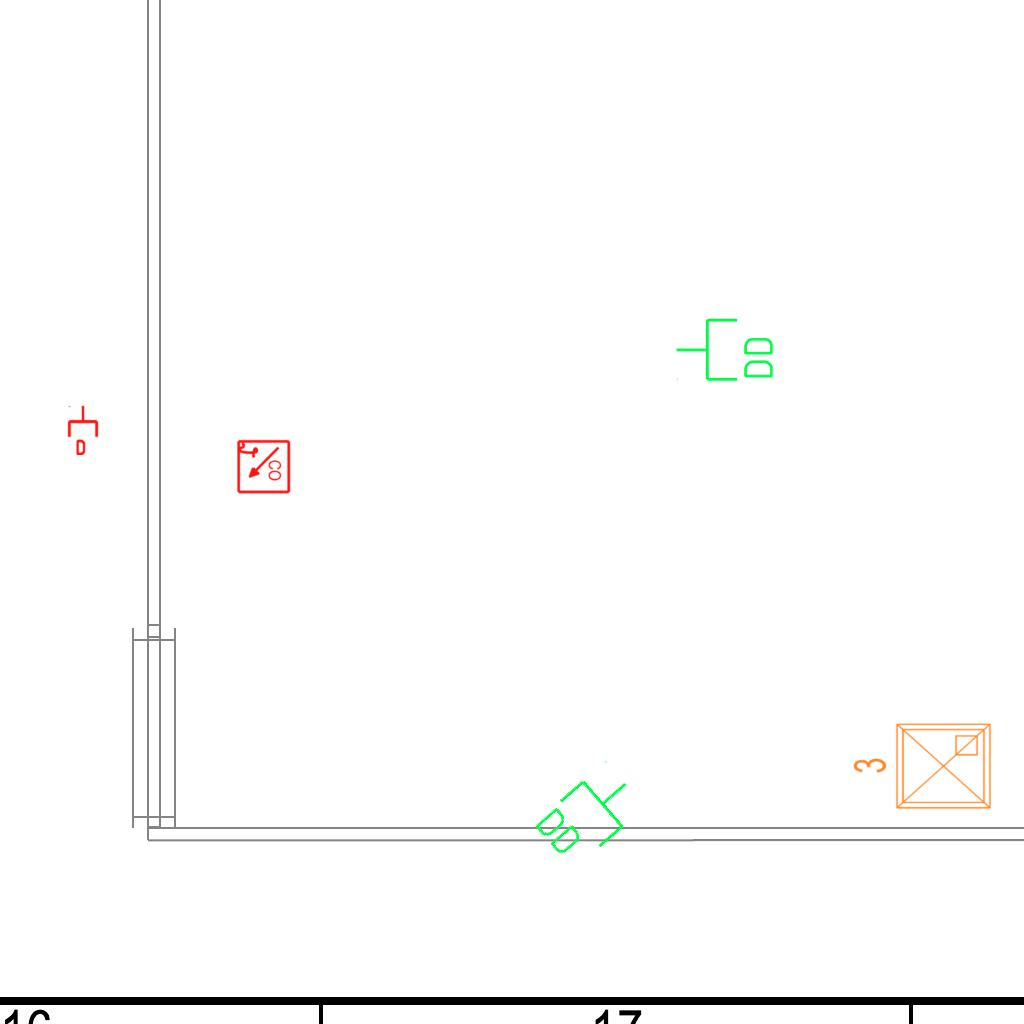Datenanschluss_einfach: (66, 405, 100, 455)
Datenanschluss_zweifach: (526, 755, 651, 876), (674, 316, 777, 385)
Einbaudownlights_LED_Konferenzraeume: (848, 716, 998, 820)
ROA_Rauchmelder_optisch_mit_Signalgeber_(Sockelsirene): (235, 439, 291, 495)
